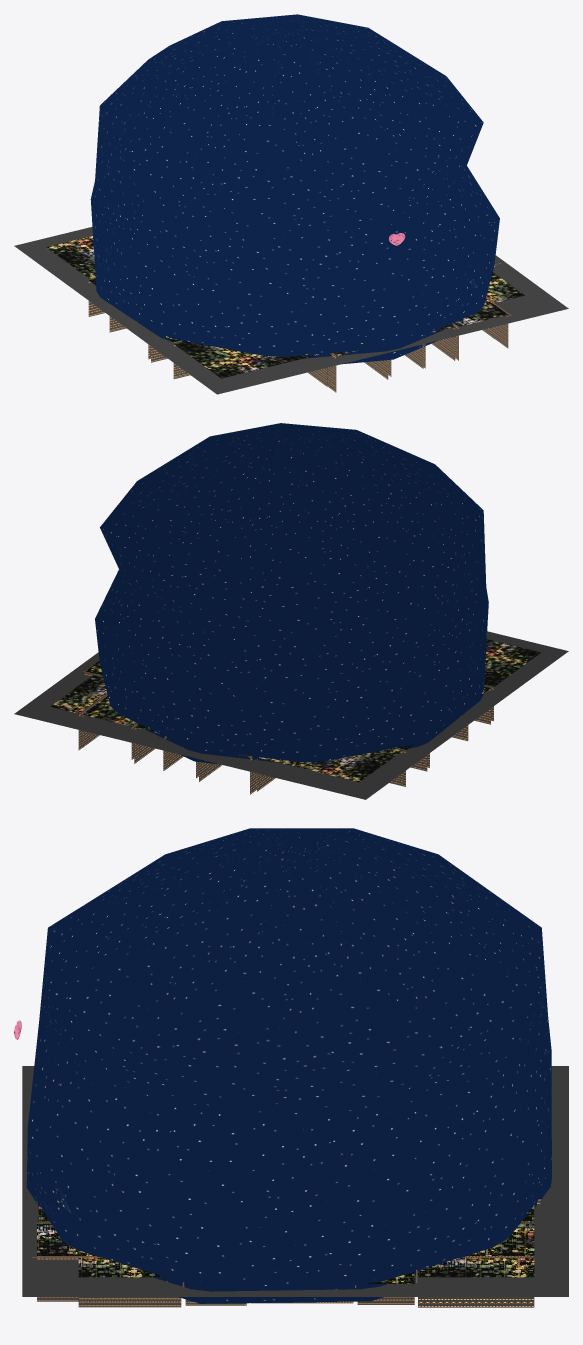
3 renders of one model, top to bottom at view 1: azimuth 30°, elevation 25°; view 2: azimuth 150°, elevation 25°; view 3: azimuth 270°, elevation 25°, orthographic. The views are drawn at different scales.
Visible parts, largest first — view 1: polygon13.001, polygon16.001, polygon17.001; view 2: polygon13.001, polygon16.001, polygon17.001; view 3: polygon13.001, polygon16.001, polygon17.001.
Part boxes in pixels (left/top/right/bottom): polygon13.001: left=90, top=14, right=499, bottom=364; polygon16.001: left=14, top=227, right=568, bottom=394; polygon17.001: left=46, top=236, right=524, bottom=378; polygon13.001: left=95, top=423, right=488, bottom=764; polygon16.001: left=14, top=631, right=568, bottom=799; polygon17.001: left=50, top=639, right=540, bottom=782; polygon13.001: left=26, top=828, right=551, bottom=1303; polygon16.001: left=22, top=1066, right=568, bottom=1307; polygon17.001: left=37, top=1196, right=540, bottom=1283.
Bounding box in the file's own units: 263791 × 208307 × 267849.
18 materials, 17 textured.
